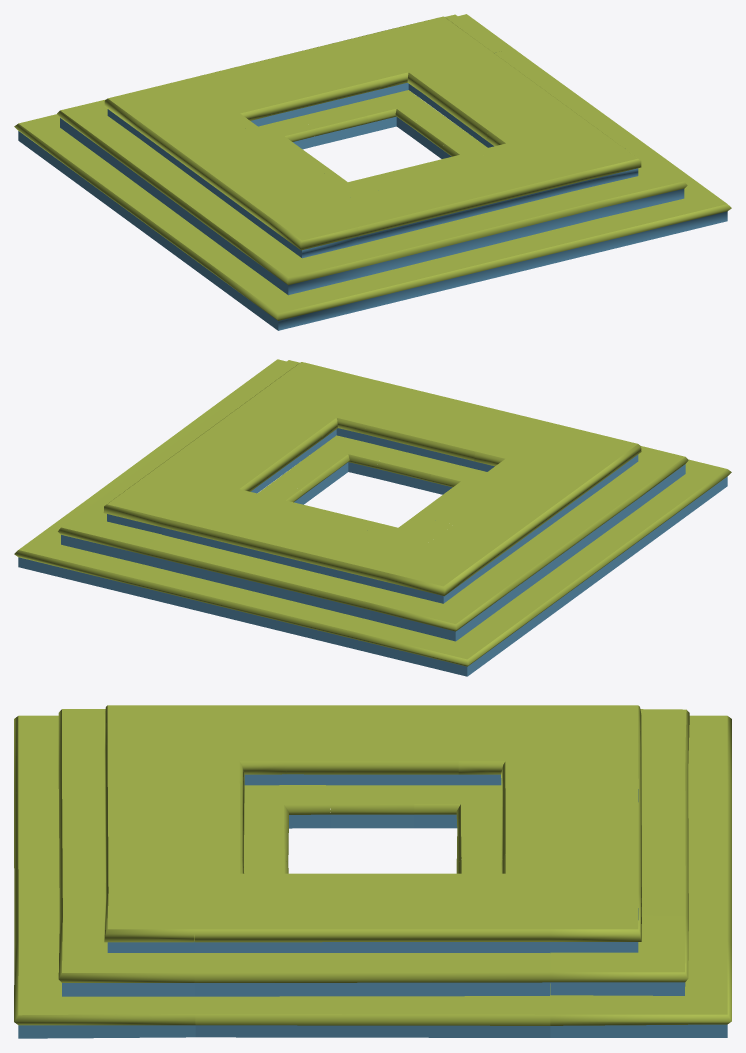
The model's file is ModuleSci_steps_3.FBX.
The picture shows the model from 3 angles, top to bottom: view 1: azimuth 30°, elevation 25°; view 2: azimuth 150°, elevation 25°; view 3: azimuth 270°, elevation 25°; orthographic projection. The views are drawn at different scales.
Visible parts, largest first — view 1: Module_sci_stair_15, Module_sci_stair_08, Module_sci_stair_17, Module_sci_stair_16, Module_sci_stair_18, Module_sci_stair_02, Module_sci_stair_09, Module_sci_stair_33, Module_sci_stair_10, Module_sci_stair_32, Module_sci_stair_36, Module_sci_stair_13 (+23 smaller); view 2: Module_sci_stair_18, Module_sci_stair_08, Module_sci_stair_19, Module_sci_stair_20, Module_sci_stair_15, Module_sci_stair_02, Module_sci_stair_39, Module_sci_stair_09, Module_sci_stair_10, Module_sci_stair_30, Module_sci_stair_38, Module_sci_stair_14 (+23 smaller); view 3: Module_sci_stair_02, Module_sci_stair_03, Module_sci_stair_04, Module_sci_stair_18, Module_sci_stair_15, Module_sci_stair_08, Module_sci_stair_36, Module_sci_stair_38, Module_sci_stair_22, Module_sci_stair_35, Module_sci_stair_07, Module_sci_stair_19 (+25 smaller).
Boxes of the visible parts, x1,y1,x2,y2 form: Module_sci_stair_15: (326, 148, 583, 244); Module_sci_stair_08: (137, 108, 325, 234); Module_sci_stair_17: (374, 219, 616, 303); Module_sci_stair_16: (358, 189, 600, 273); Module_sci_stair_18: (163, 30, 420, 108); Module_sci_stair_02: (421, 40, 606, 148); Module_sci_stair_09: (107, 139, 269, 259); Module_sci_stair_33: (210, 260, 391, 330); Module_sci_stair_10: (80, 164, 238, 282); Module_sci_stair_32: (237, 235, 375, 295); Module_sci_stair_36: (598, 156, 731, 248); Module_sci_stair_13: (254, 67, 380, 123); Module_sci_stair_18: (161, 494, 419, 589); Module_sci_stair_08: (420, 454, 608, 579); Module_sci_stair_19: (144, 522, 387, 619); Module_sci_stair_20: (128, 565, 370, 648); Module_sci_stair_15: (325, 375, 581, 453); Module_sci_stair_02: (139, 385, 324, 493); Module_sci_stair_39: (353, 605, 534, 676); Module_sci_stair_09: (476, 485, 638, 604); Module_sci_stair_10: (506, 510, 665, 628); Module_sci_stair_30: (369, 580, 508, 641); Module_sci_stair_38: (14, 502, 145, 594); Module_sci_stair_14: (365, 413, 491, 469); Module_sci_stair_02: (194, 892, 549, 952); Module_sci_stair_03: (194, 953, 549, 996); Module_sci_stair_04: (195, 953, 550, 1037); Module_sci_stair_18: (550, 742, 641, 902); Module_sci_stair_15: (104, 742, 195, 902); Module_sci_stair_08: (194, 705, 550, 742); Module_sci_stair_36: (14, 940, 195, 1038); Module_sci_stair_38: (550, 940, 731, 1037); Module_sci_stair_22: (550, 915, 688, 995); Module_sci_stair_35: (58, 915, 194, 996); Module_sci_stair_07: (286, 742, 458, 785); Module_sci_stair_19: (638, 766, 688, 919).
Bounding box in the file's own units: 81.89 × 9.03 × 81.98.
